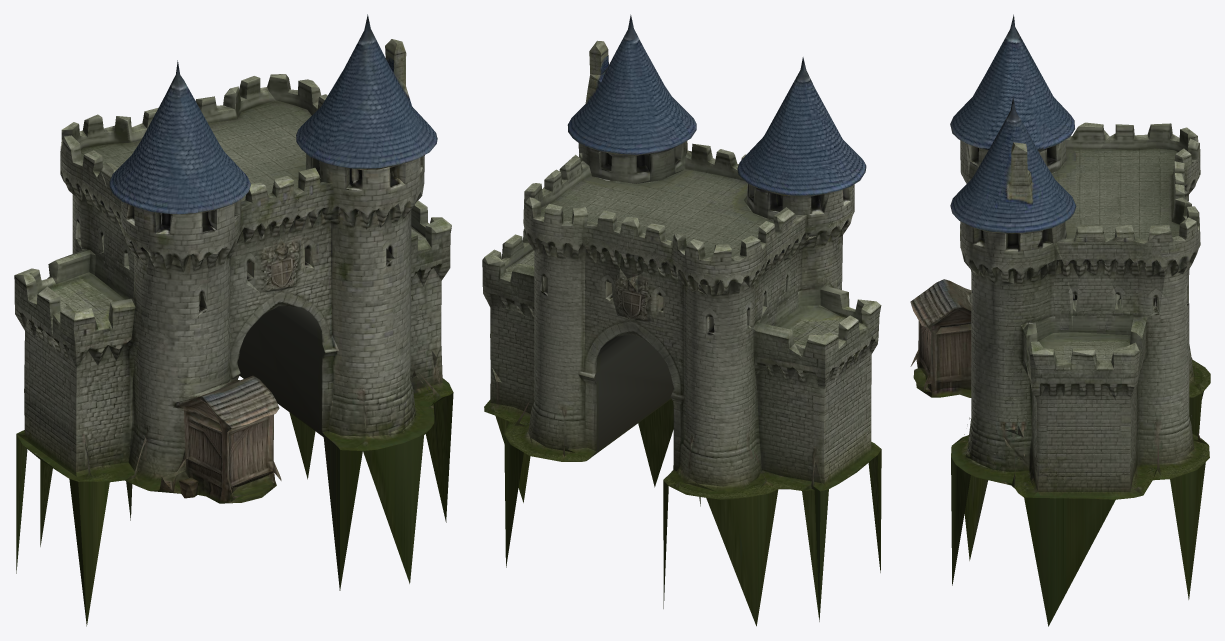
Rendered from wall_gate.glb.
3 renders of one model, left to right at view 1: azimuth 30°, elevation 25°; view 2: azimuth 150°, elevation 25°; view 3: azimuth 270°, elevation 25°, orthographic. The views are drawn at different scales.
Parts seen in each view (by area): view 1: wall_gate_export; view 2: wall_gate_export; view 3: wall_gate_export.
Boxes of the visible parts, x1,y1,x2,y2 form: wall_gate_export: [14, 14, 453, 626]; wall_gate_export: [482, 14, 881, 626]; wall_gate_export: [910, 14, 1210, 626].
Bounding box in the file's own units: 23 × 31.22 × 17.43.
Materials: 2 (2 with a texture image).
